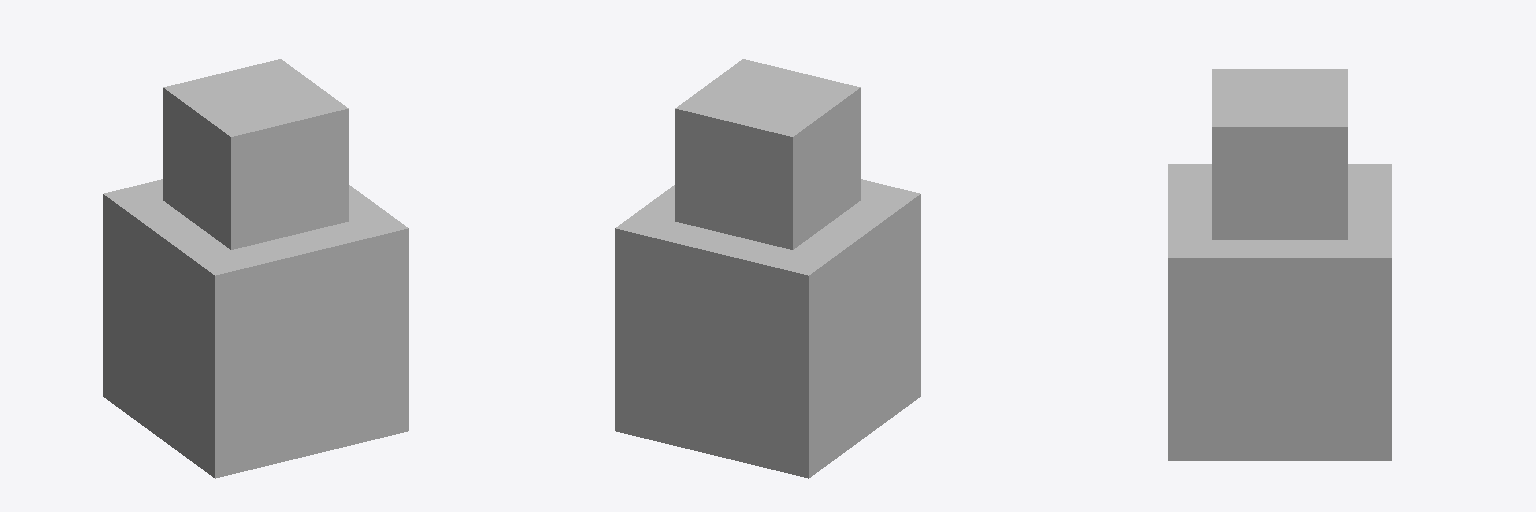
File: 2_cubes.obj
The picture shows the model from 3 angles: view 1: azimuth 30°, elevation 25°; view 2: azimuth 150°, elevation 25°; view 3: azimuth 270°, elevation 25°; orthographic projection.
Parts seen in each view (by area): view 1: Cube, Cube.001; view 2: Cube, Cube.001; view 3: Cube, Cube.001.
Part boxes in pixels (bbox=[...]): Cube: bbox=[103, 179, 408, 478]; Cube.001: bbox=[163, 59, 348, 249]; Cube: bbox=[615, 179, 920, 478]; Cube.001: bbox=[675, 59, 860, 249]; Cube: bbox=[1168, 164, 1391, 460]; Cube.001: bbox=[1212, 69, 1347, 239].
Bounding box in the file's own units: 2 × 3.11 × 2.